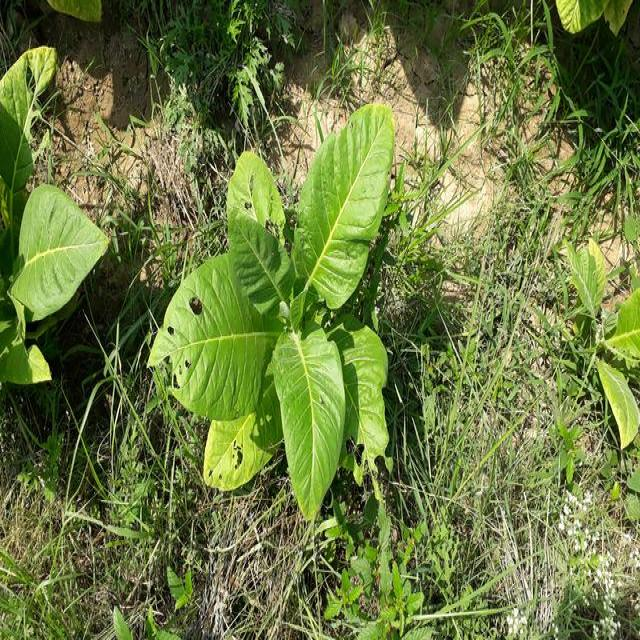crop: (150, 101, 416, 502), (0, 43, 98, 388), (568, 242, 640, 449)
